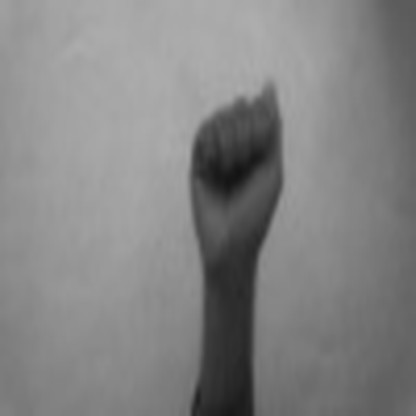a: (182, 74, 291, 257)
